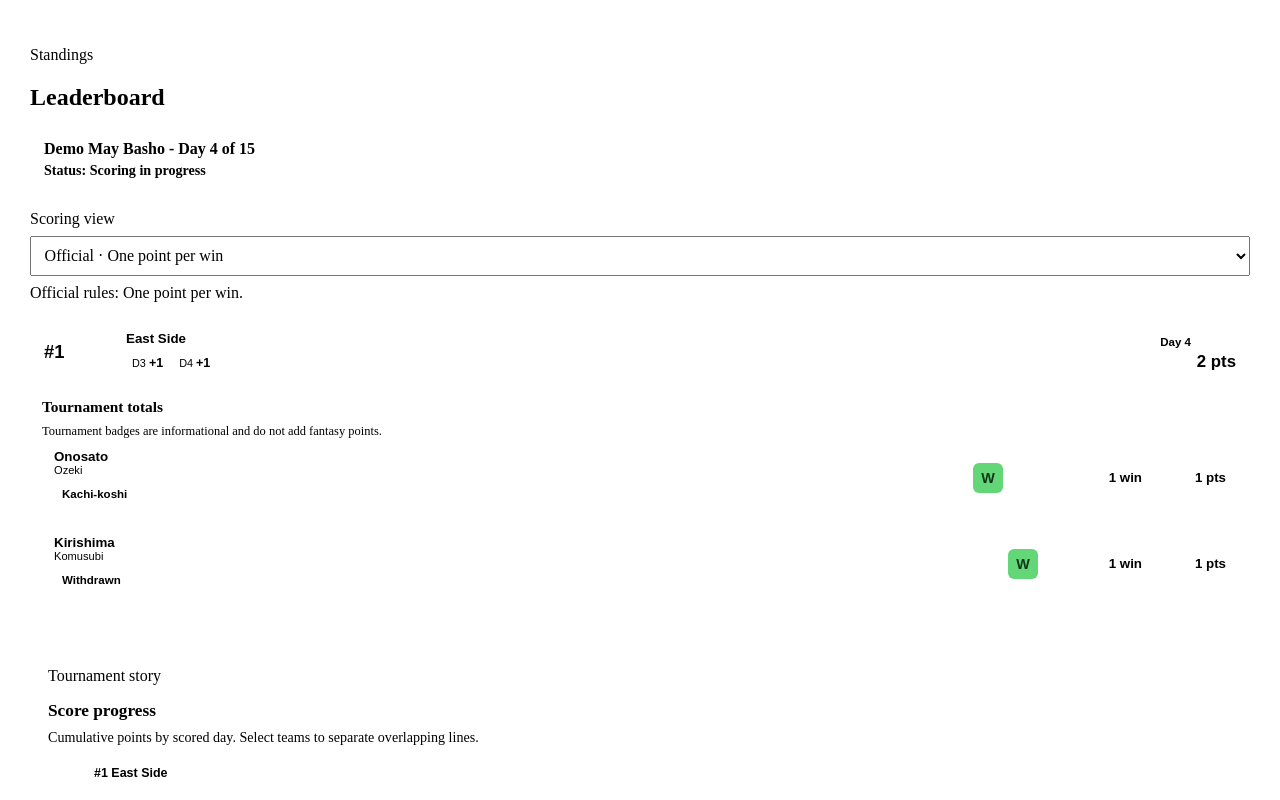
Scenario: LeaderboardPanel › shows expanded rikishi score details for the selected team
Check: the text "Demo May Basho - Day 4 of 15" is shown, box [44,140,255,157]
Check: the text "Status: Scoring in progress" is shown, box [44,162,206,178]
Click the button "Onosato Ozeki Kachi-koshi W L 1 win 1 pts" at x=81, y=456, box [42,439,1238,517]
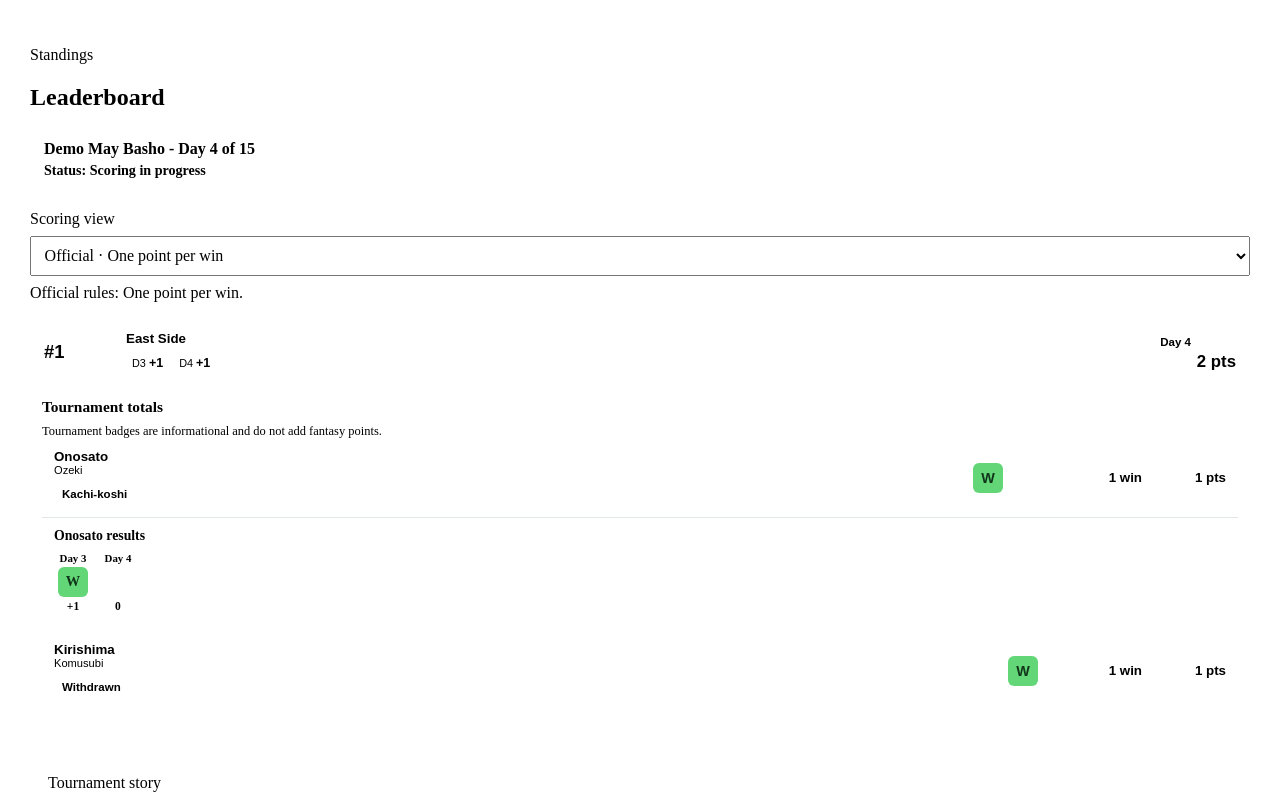
Check: the element named "Onosato result history" is shown, box [42,517,1238,624]
Check: the list item with aria-label "Day 3: Win, +1 point" is shown, box [58,552,88,612]
Check: the list item with aria-label "Day 4: Loss, 0 points" is shown, box [104,552,131,612]
